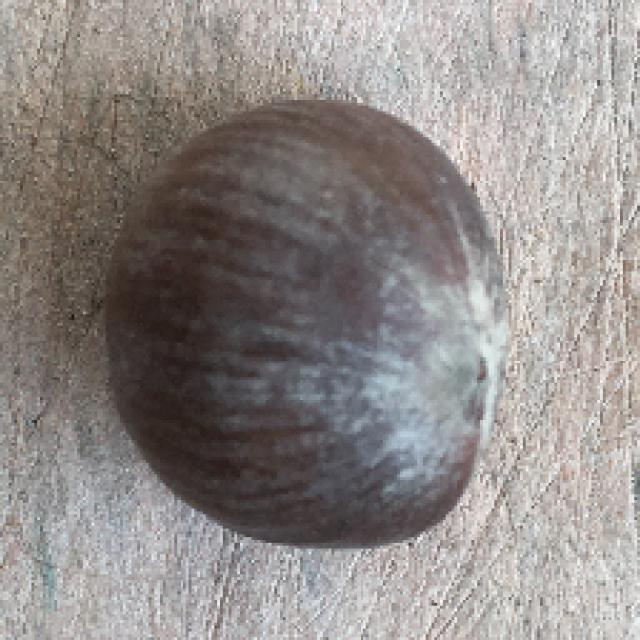DamagedHazelnut: (107, 99, 519, 547)
